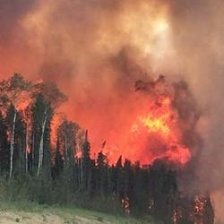fire: (133, 109, 176, 142)
smoke: (29, 4, 217, 98)
